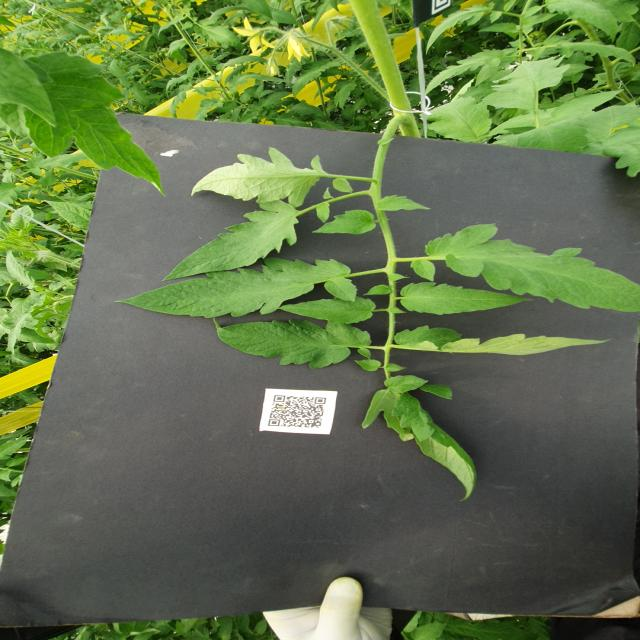Healthy Leaf: (23, 50, 165, 196), (423, 223, 640, 312), (359, 374, 478, 502), (114, 258, 358, 318), (161, 200, 299, 281), (188, 146, 333, 208), (212, 317, 372, 369), (393, 325, 612, 356), (484, 55, 570, 110), (400, 281, 534, 316), (425, 47, 518, 97), (427, 2, 502, 54), (426, 96, 493, 144), (546, 0, 618, 43), (276, 297, 378, 324), (290, 60, 342, 100), (312, 210, 378, 234), (43, 199, 91, 230), (4, 250, 37, 290), (376, 194, 432, 212), (0, 436, 33, 460), (10, 204, 34, 232), (410, 260, 437, 281)
